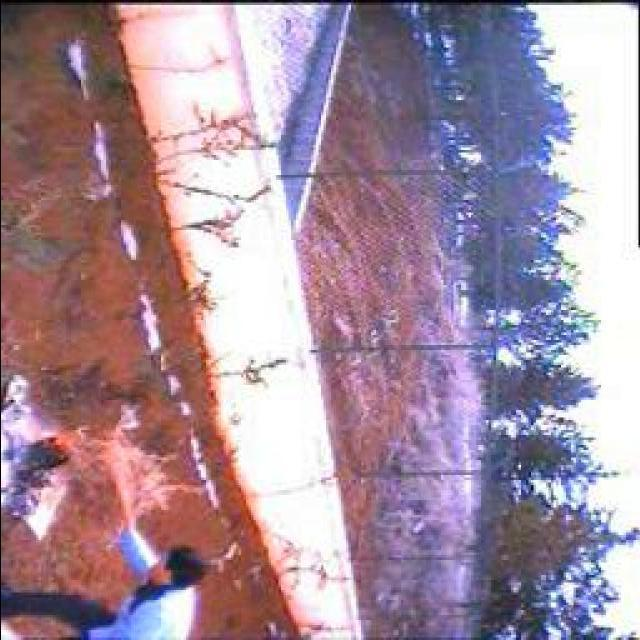Fire: (26, 419, 87, 477)
